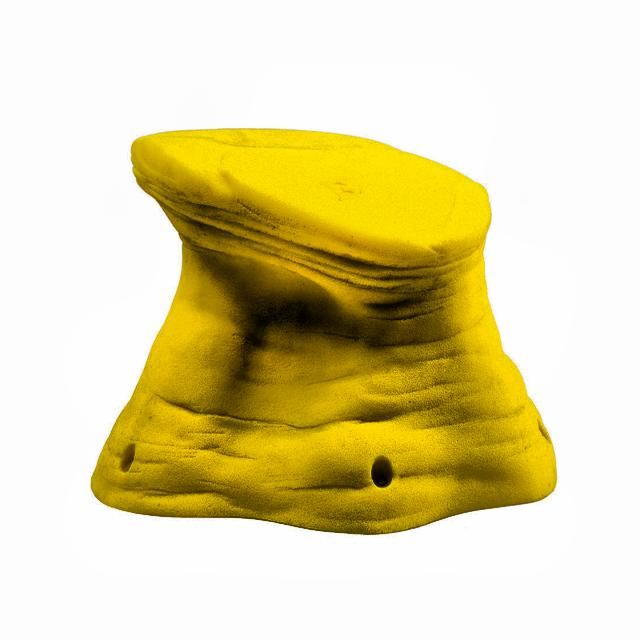Hold: (97, 100, 564, 536)
